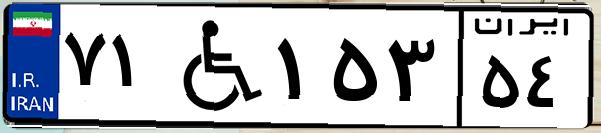1: (270, 28, 330, 110), (110, 28, 158, 98)
3: (385, 28, 445, 110)
4: (525, 38, 570, 115)
5: (330, 28, 385, 110), (475, 38, 525, 113)
7: (57, 26, 110, 100)
ژ (معلولین و جانبازان): (158, 12, 270, 120)
